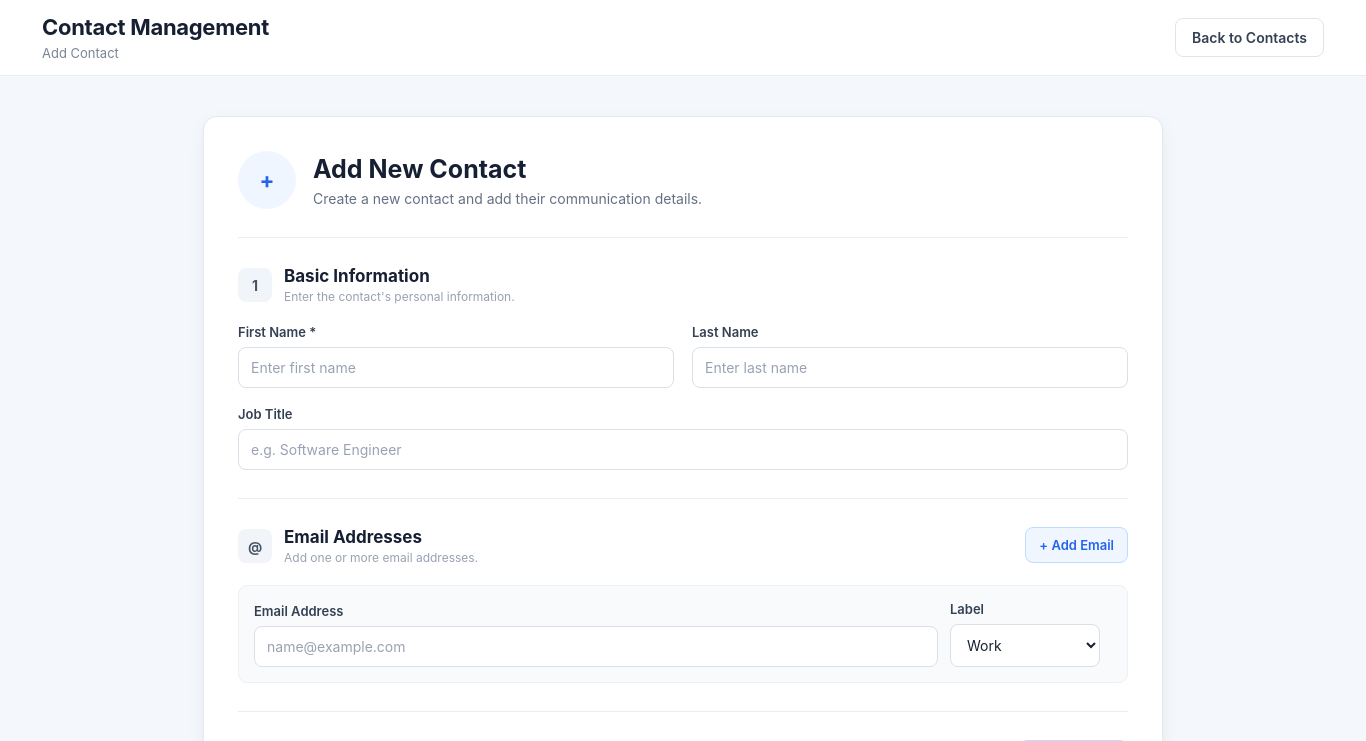
Test: AddContact › shows email validation error
Type "John" into the field labelled "First Name *".
click(456, 368); type("John")  # box x1=238 y1=347 x2=674 y2=388
(page scrolled)
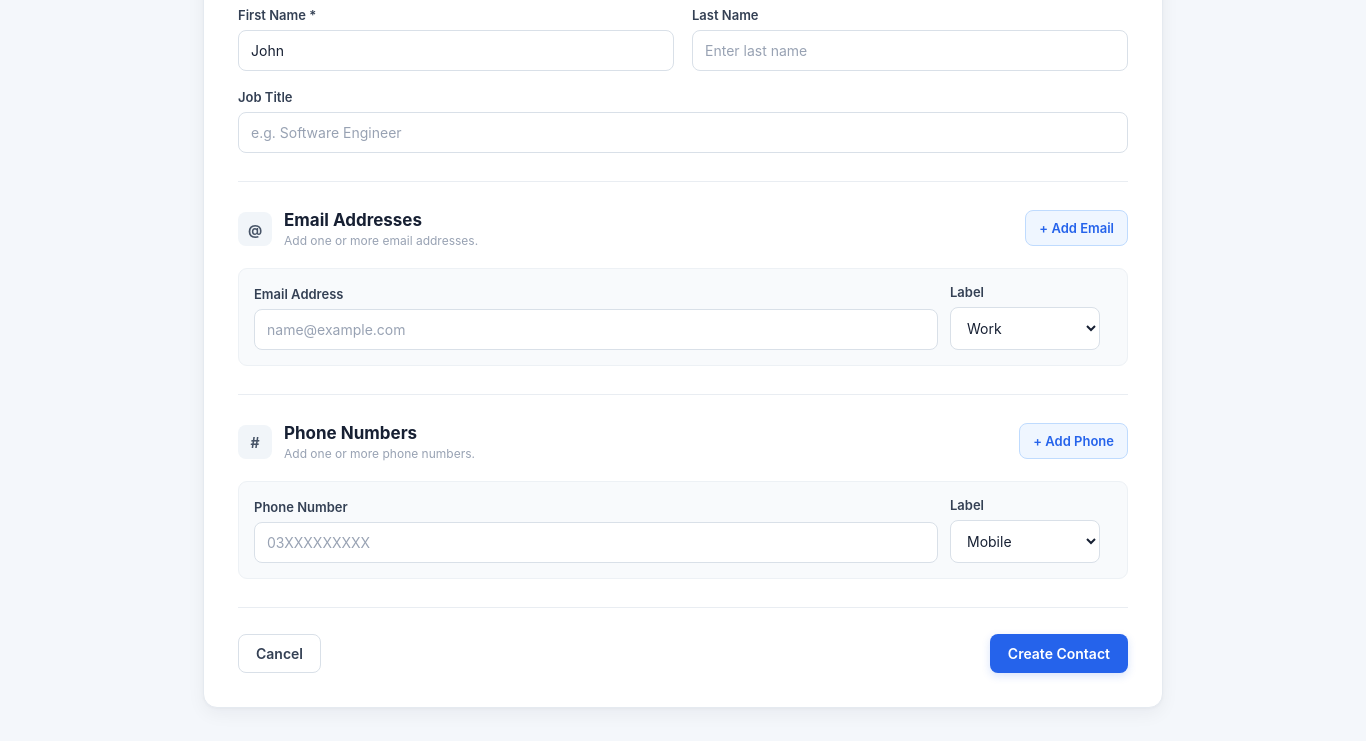
Click the button "Create Contact".
click(1059, 654)  # box x1=990 y1=634 x2=1128 y2=673
(page scrolled)
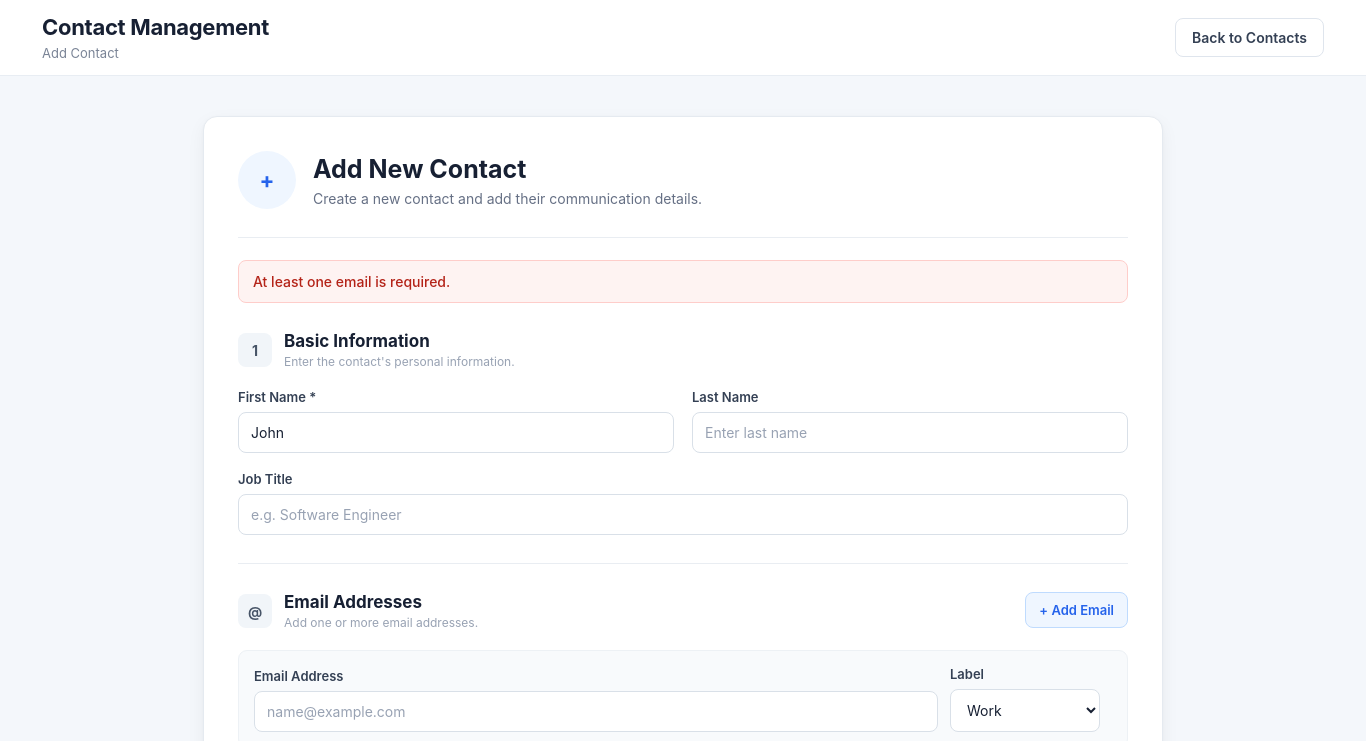
Expected: the text "At least one email is required." is shown, x1=238 y1=260 x2=1128 y2=303
